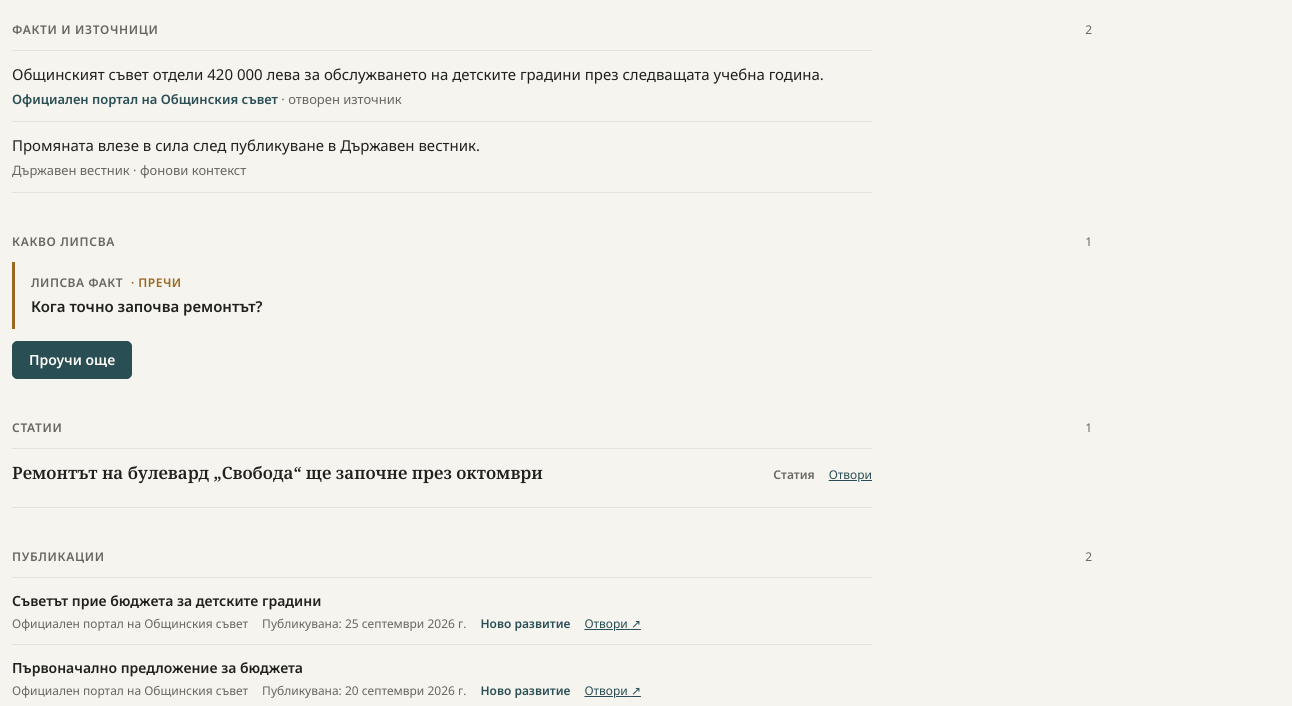
Test: V1.2-G2.2 — an operational refusal is never an evidence statement › leaves the existing evidence rendering untouched by an operational failure
(page scrolled)
Step 1. Click the button "Проучи още" → point(72, 360), box [12,341,132,379]
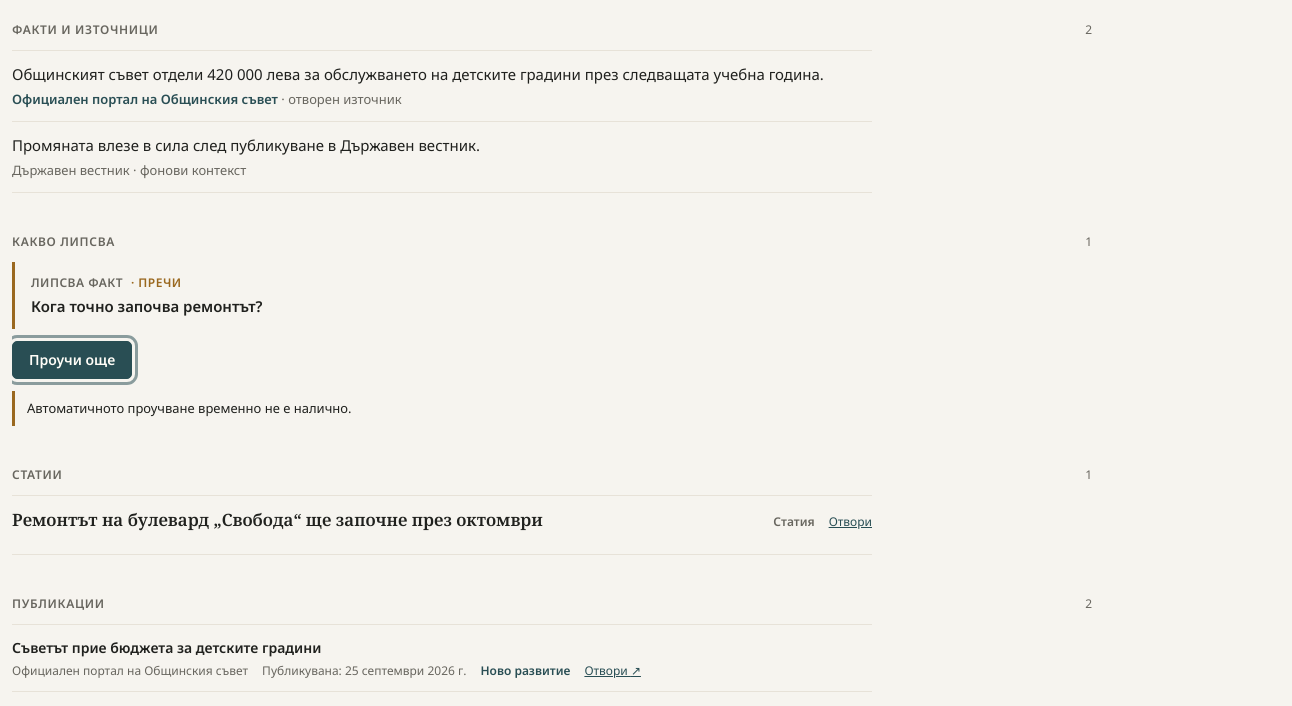
Expected: the text "Общинският съвет отдели 420 000 лева за обслужването на детските градини през следващата учебна година." is shown, [12,64,824,84]
Now the message "Автоматичното проучване временно не е налично." is shown, box [12,391,472,426]
